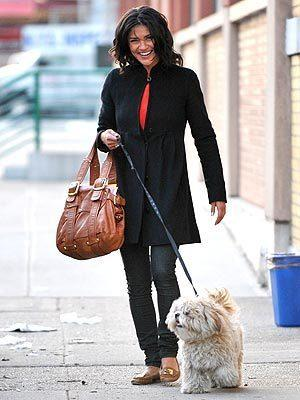person: (97, 8, 226, 386)
